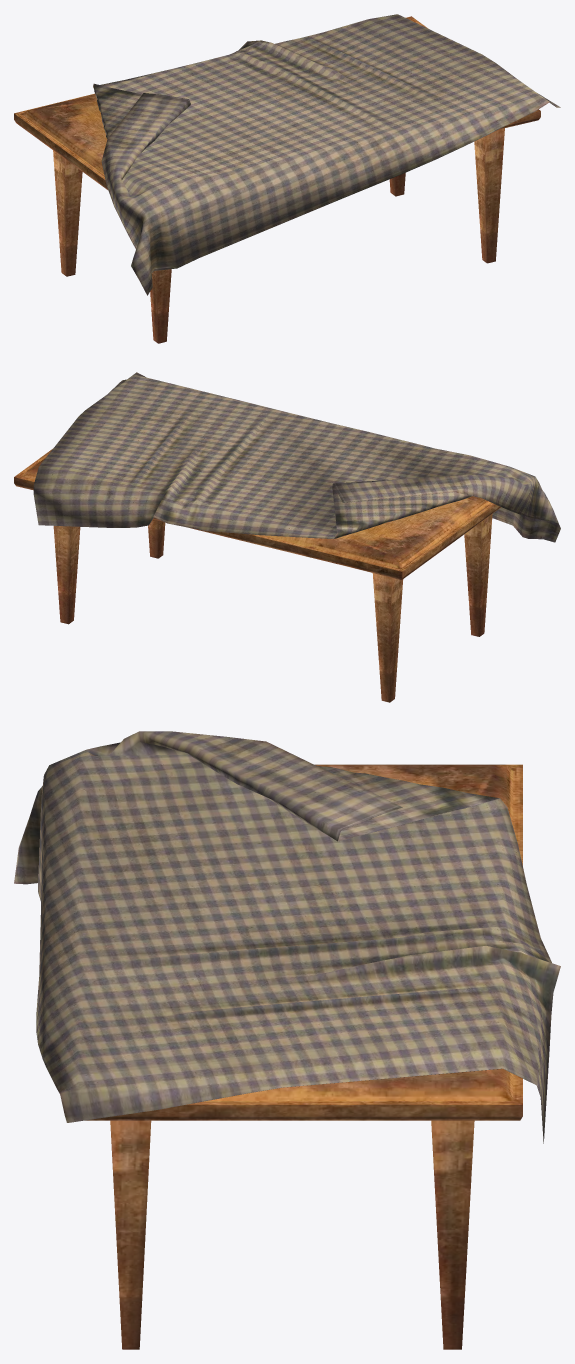
Rendered from dining_table.glb.
3 renders of one model, top to bottom at view 1: azimuth 30°, elevation 25°; view 2: azimuth 150°, elevation 25°; view 3: azimuth 270°, elevation 25°, orthographic. The views are drawn at different scales.
Parts seen in each view (by area): view 1: dining_table; view 2: dining_table; view 3: dining_table.
Boxes of the visible parts, left/top/right/bottom form: dining_table: left=14, top=14, right=560, bottom=343; dining_table: left=14, top=372, right=560, bottom=702; dining_table: left=14, top=731, right=560, bottom=1349.
Bounding box in the file's own units: 2.26 × 0.8769 × 1.39.
Materials: 1 (1 with a texture image).
